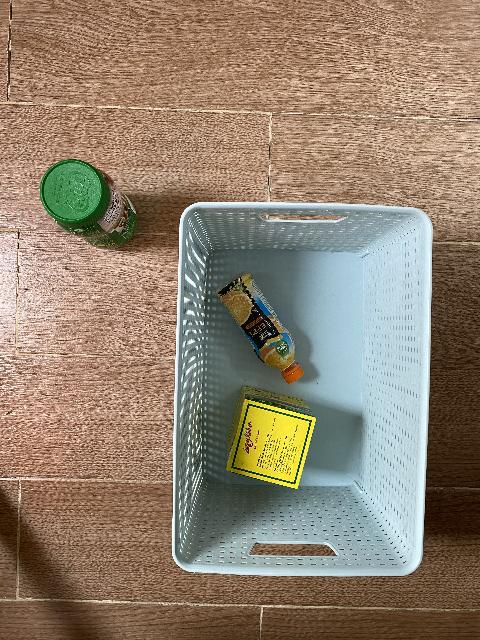cart: (170, 202, 433, 579)
luong_kho: (226, 385, 316, 490)
milo: (39, 159, 137, 250)
teppy_orange_juice: (215, 271, 304, 384)
